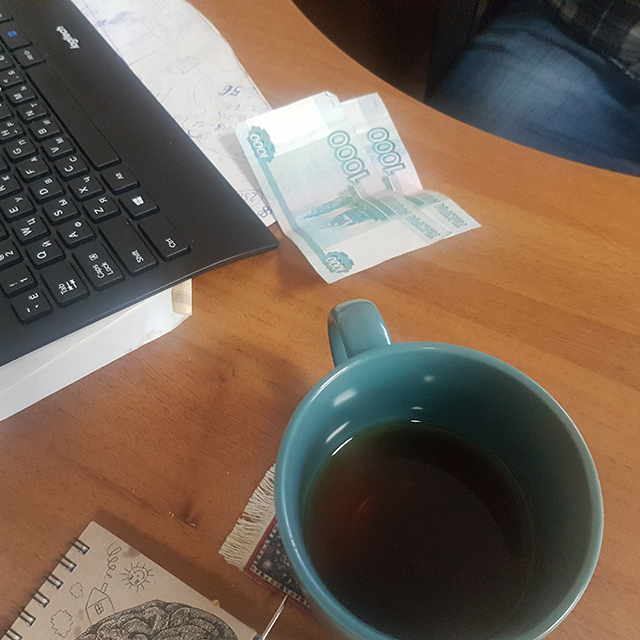banknotes: (232, 93, 484, 283)
